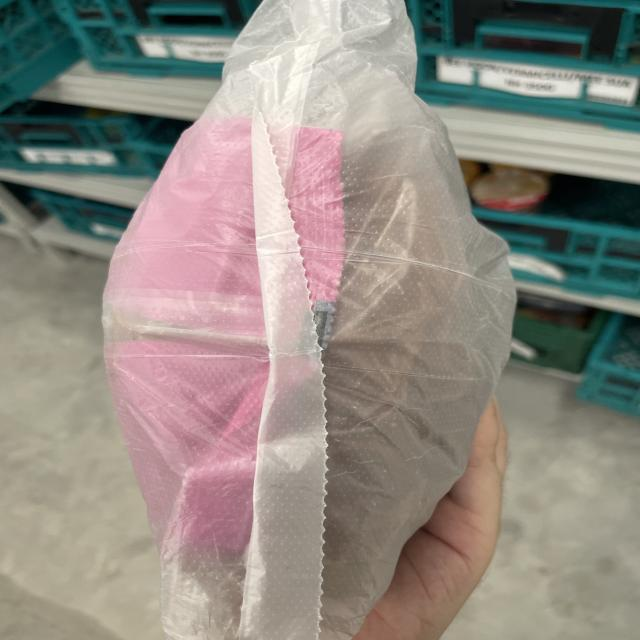object_name: (193, 72, 430, 610)
